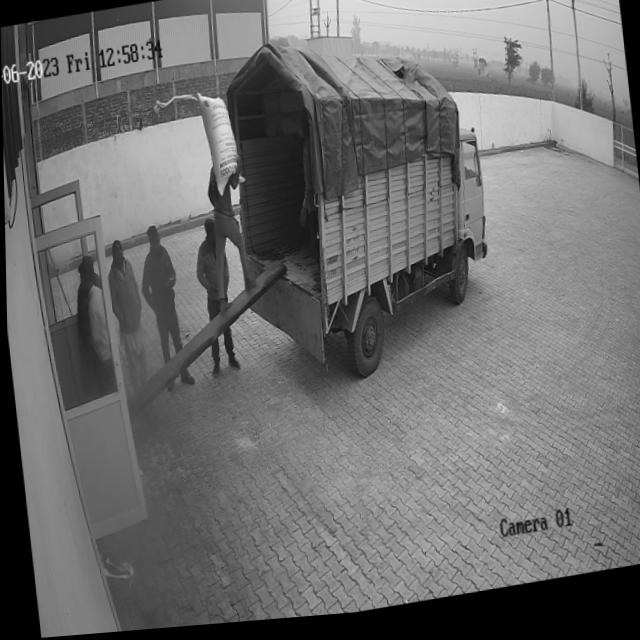sack: (195, 88, 240, 202)
